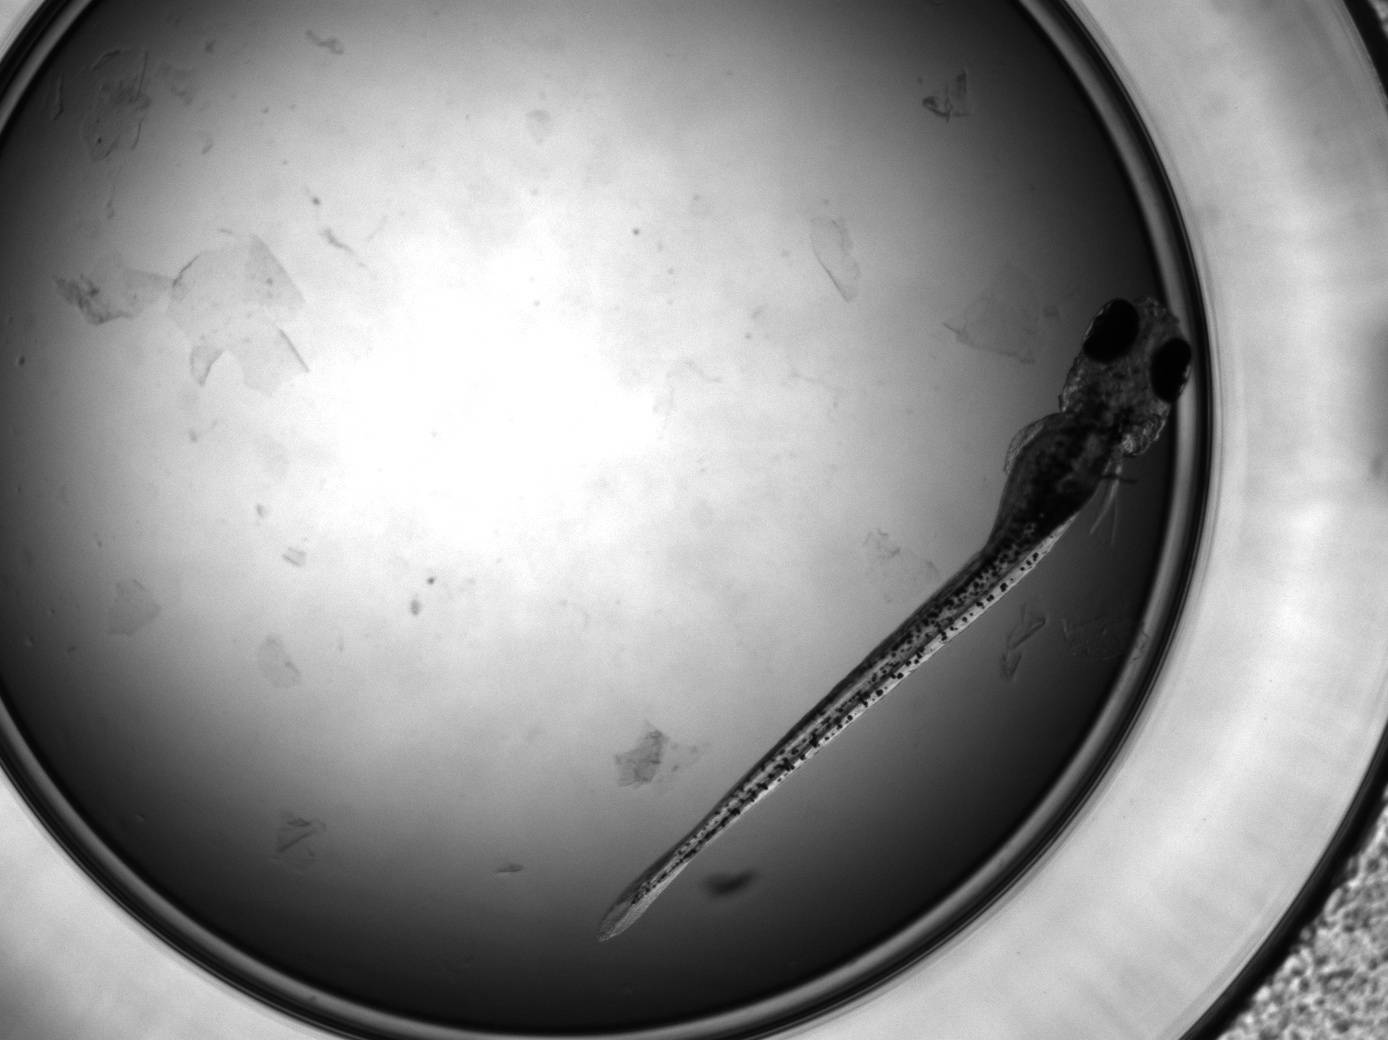debris: (143, 226, 315, 395), (941, 262, 1068, 362), (861, 528, 940, 608), (610, 726, 714, 787), (808, 214, 865, 302), (999, 596, 1049, 685), (922, 67, 976, 121)
embryo: (603, 294, 1196, 939)
eye: (1081, 298, 1141, 362), (1148, 338, 1193, 402)
yolksac: (982, 411, 1117, 560)
